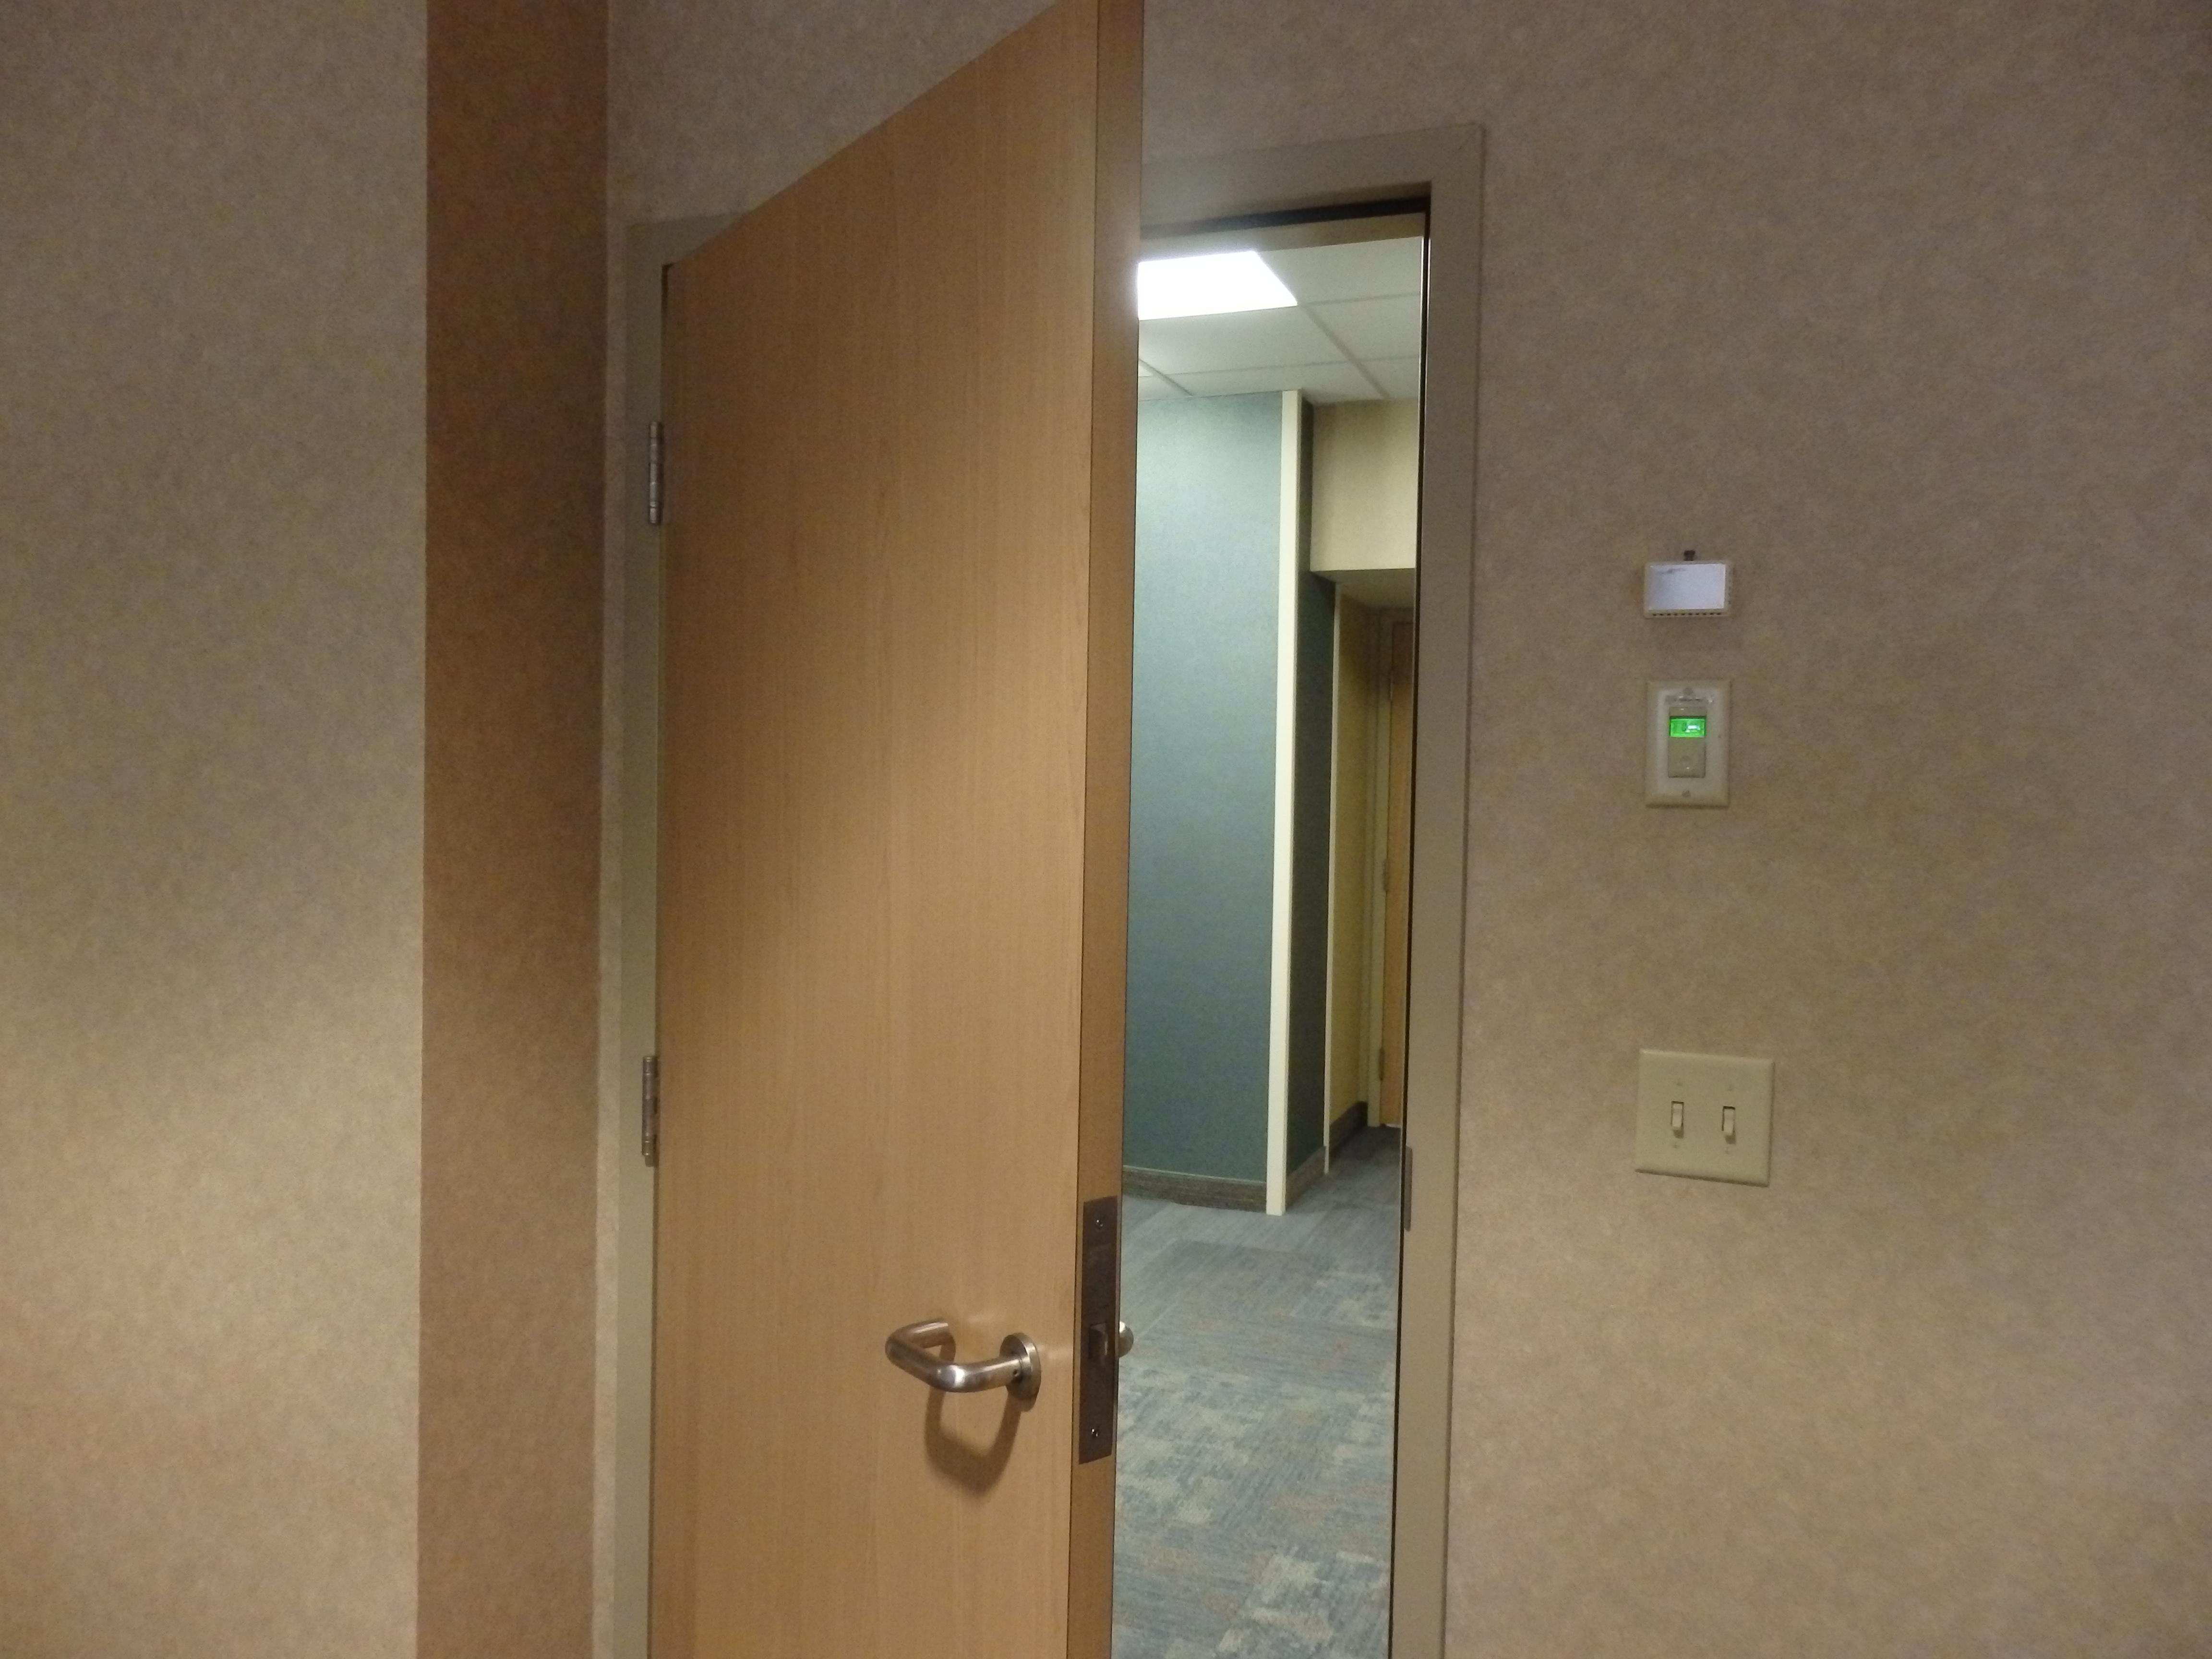door: (610, 5, 1484, 1652)
